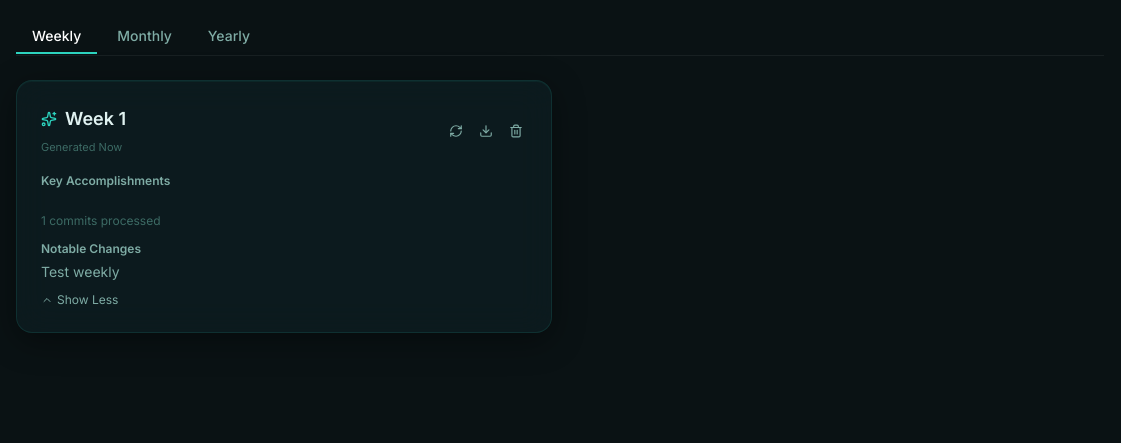
renders tabs and switches content
Expected: the heading "Week 1" is shown, [65,105,126,133]
Step 1. Click the button "Monthly" → [145, 36], box [101,18,188,54]
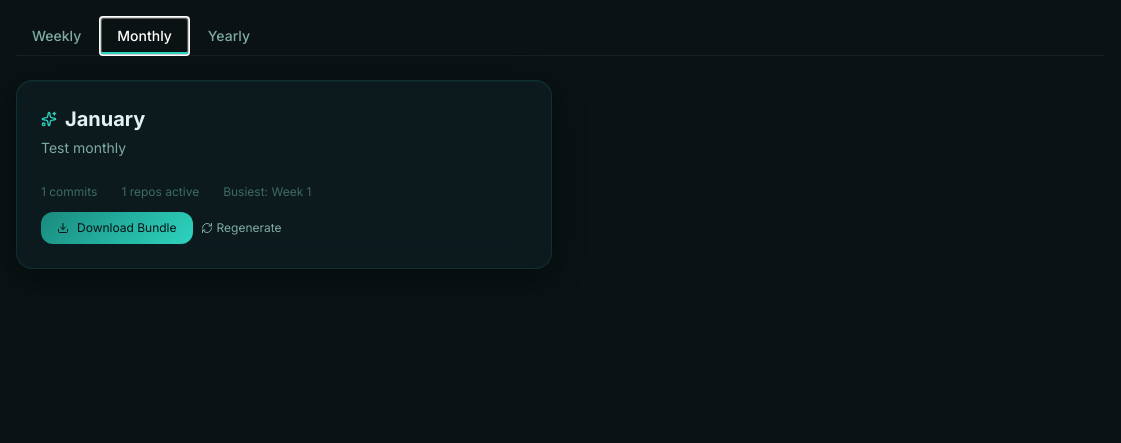
Expected: the heading "January" is shown, [65,105,145,133]
Step 2. Click the button "Yearly" → [229, 36], box [192,18,266,54]
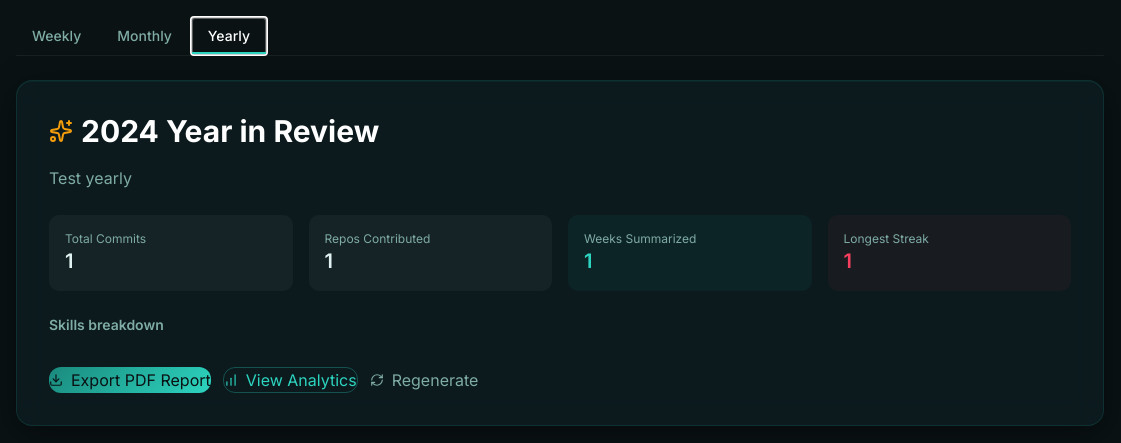
Expected: the heading "2024 Year in Review" is shown, [81,113,379,149]
